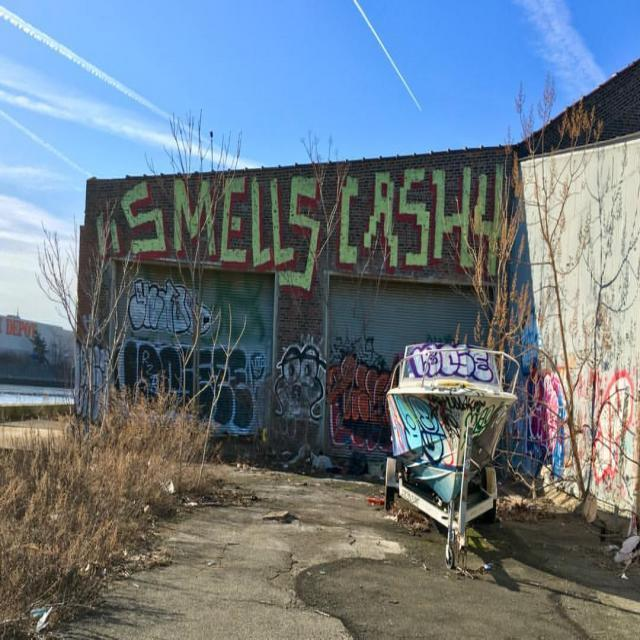nonspitting: (94, 165, 506, 294), (111, 341, 256, 433), (394, 395, 495, 463), (329, 343, 390, 455), (128, 278, 212, 336), (275, 336, 323, 419), (408, 343, 496, 383)
